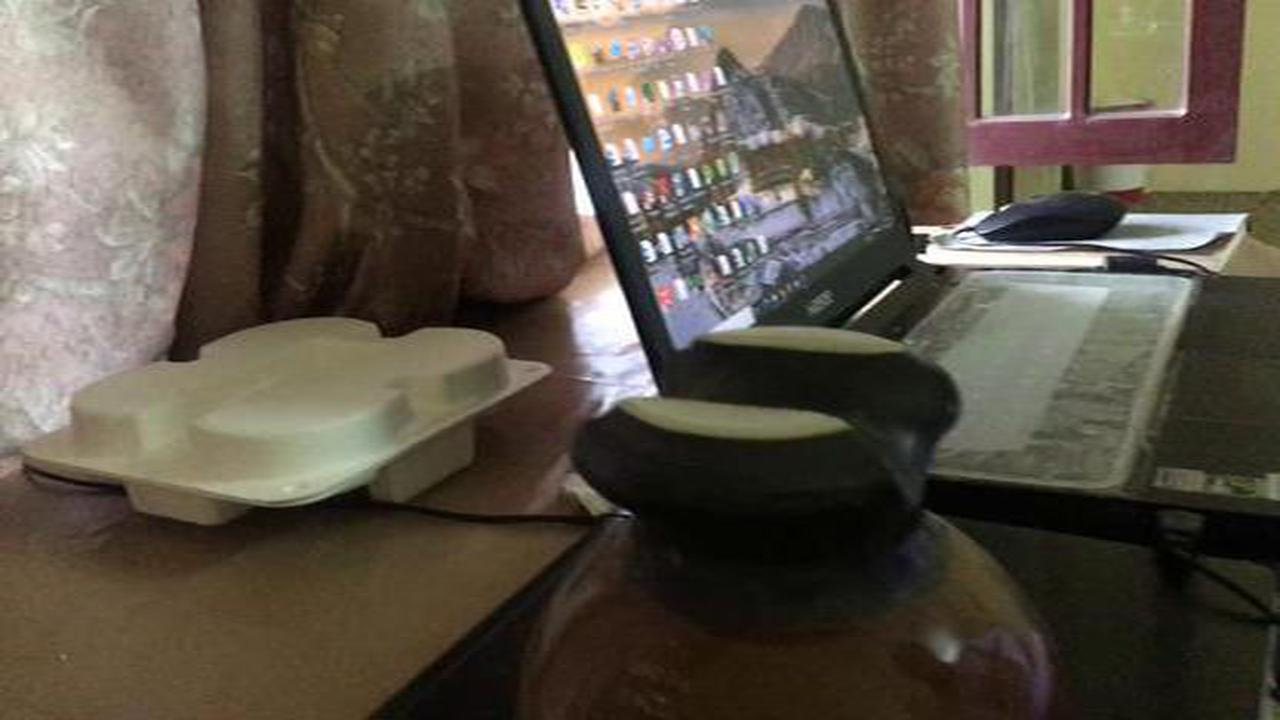insulator_pin: (502, 302, 1087, 720)
